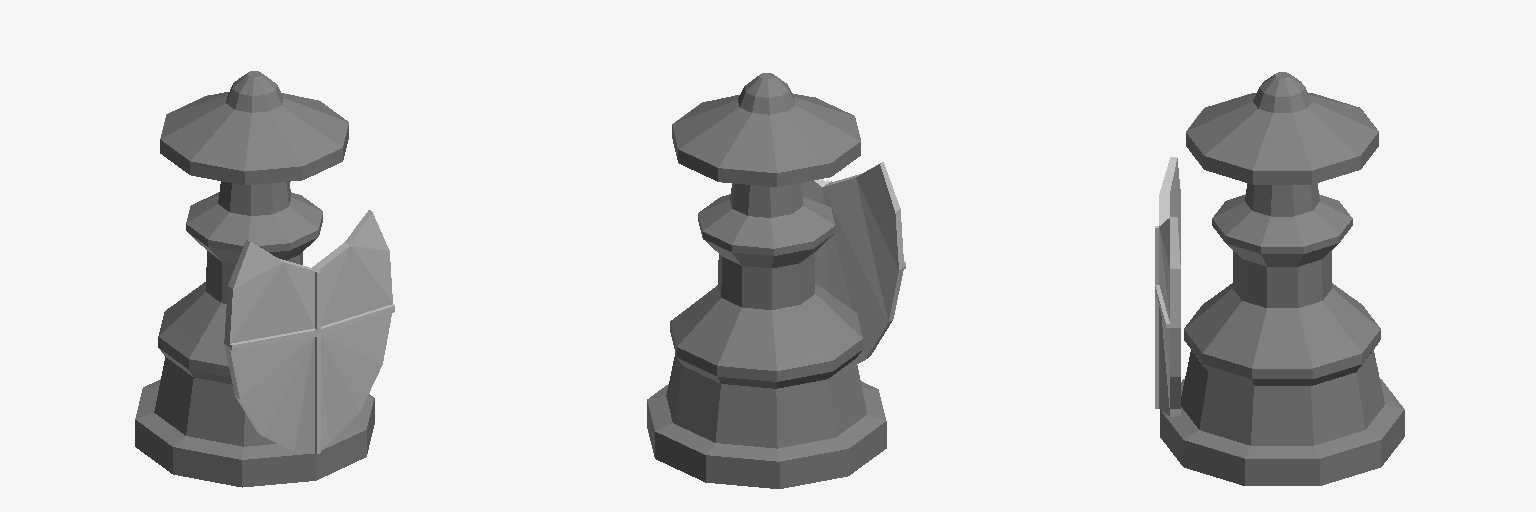
The model's file is commenderPawn.obj.
The picture shows the model from 3 angles: view 1: azimuth 30°, elevation 25°; view 2: azimuth 150°, elevation 25°; view 3: azimuth 270°, elevation 25°; orthographic projection.
Bounding box in the file's own units: 0.8047 × 1.38 × 0.863.